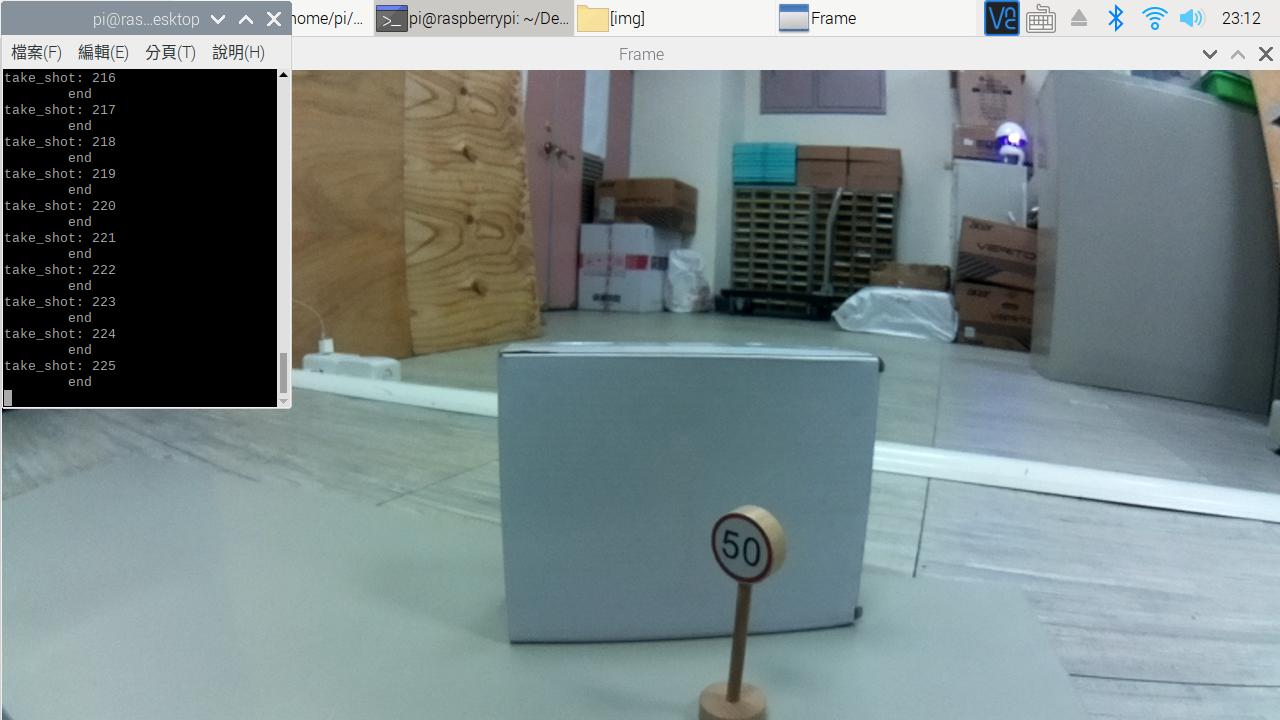Speed50: (698, 496, 804, 608)
